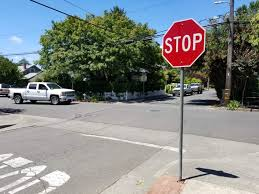stop: (159, 16, 207, 69)
